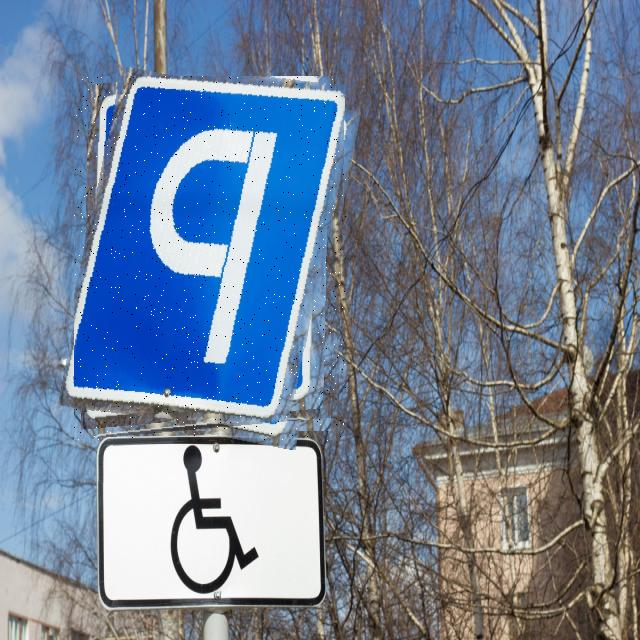parking: (74, 76, 346, 441)
